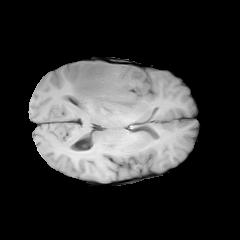glioma: (71, 62, 151, 116)
